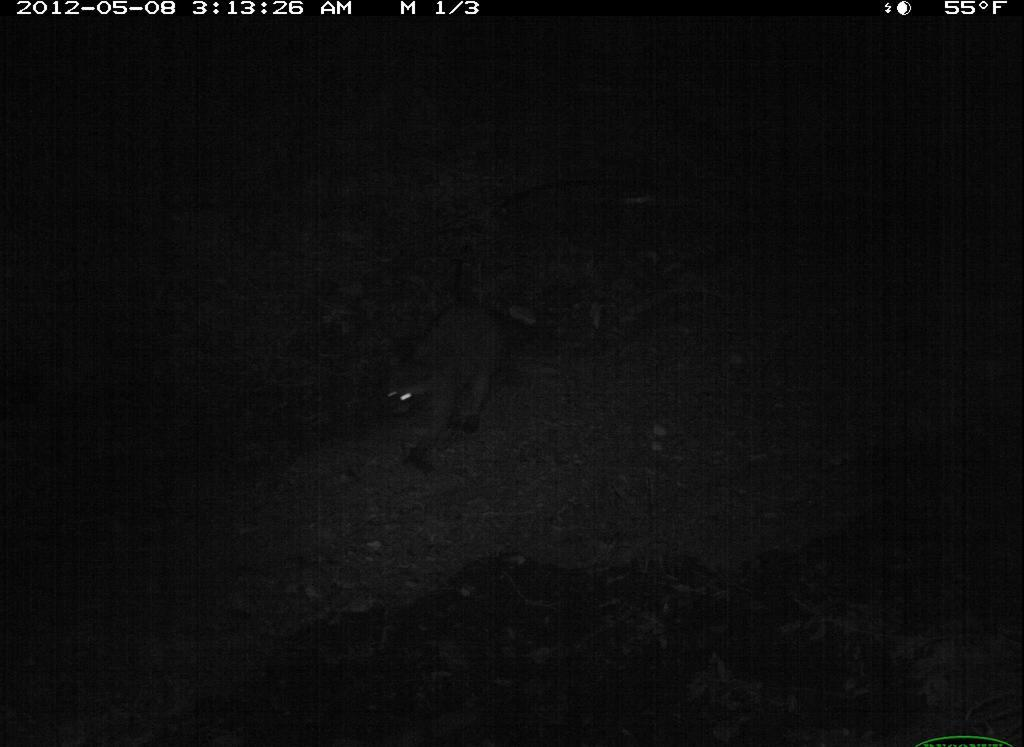raccoon: (368, 291, 520, 479)
